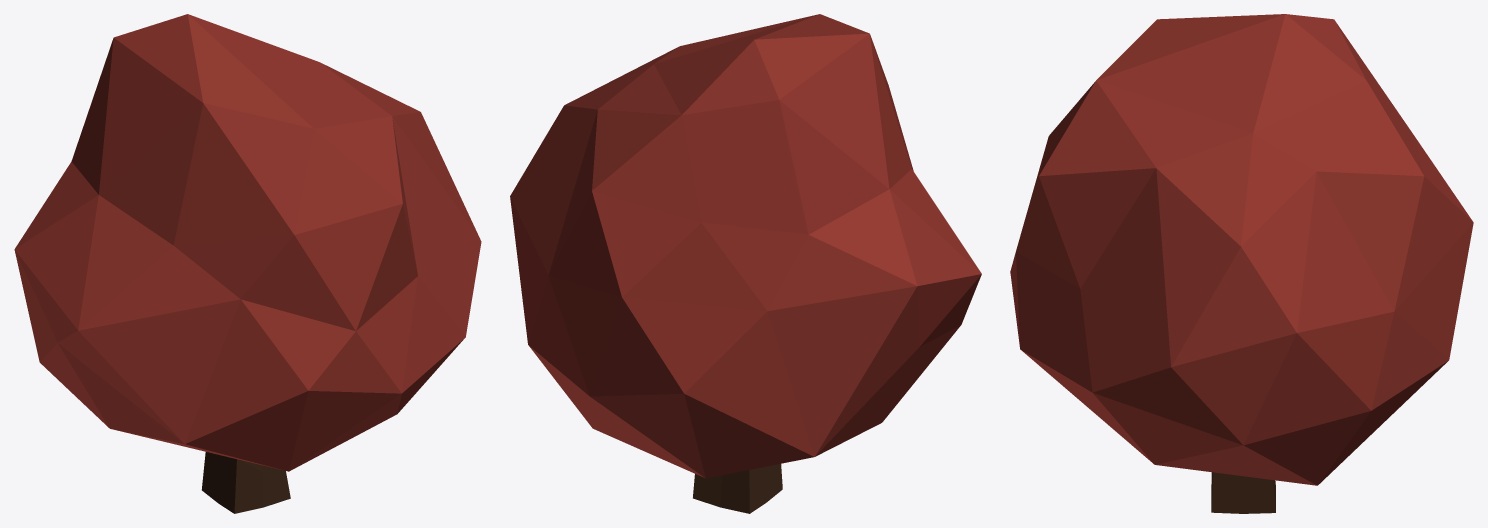
The model's file is Tree_3_Red.fbx.
The picture shows the model from 3 angles, left to right: view 1: azimuth 30°, elevation 25°; view 2: azimuth 150°, elevation 25°; view 3: azimuth 270°, elevation 25°; orthographic projection. The views are drawn at different scales.
Visible parts, largest first — view 1: Tree_3_Red_Part_1, Tree_3_Red_Part_2; view 2: Tree_3_Red_Part_1, Tree_3_Red_Part_2; view 3: Tree_3_Red_Part_1, Tree_3_Red_Part_2.
Part boxes in pixels (x1=…): Tree_3_Red_Part_1: x1=14, y1=14, x2=481, y2=471; Tree_3_Red_Part_2: x1=201, y1=452, x2=290, y2=513; Tree_3_Red_Part_1: x1=510, y1=14, x2=981, y2=478; Tree_3_Red_Part_2: x1=693, y1=464, x2=782, y2=513; Tree_3_Red_Part_1: x1=1010, y1=14, x2=1473, y2=485; Tree_3_Red_Part_2: x1=1211, y1=472, x2=1275, y2=513.
Size of the model in its own units: 714 by 807 by 720.
